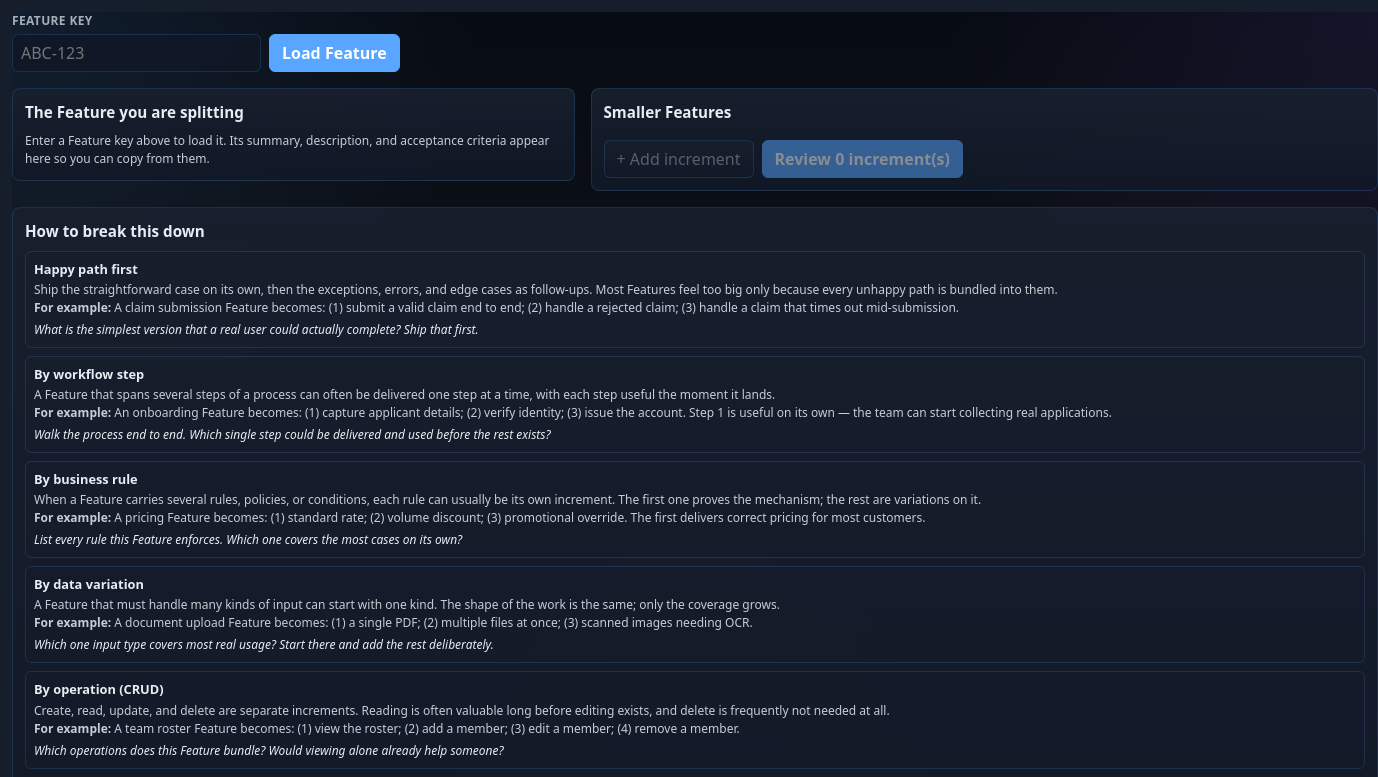
FeatureSplitterTab — the review step (FR-013) › lets the PO go back and keep editing
The image size is (1378, 777).
Type "ABC-1" into the field labelled "Feature key".
click(136, 53); type("ABC-1")  # box [12, 34, 261, 72]
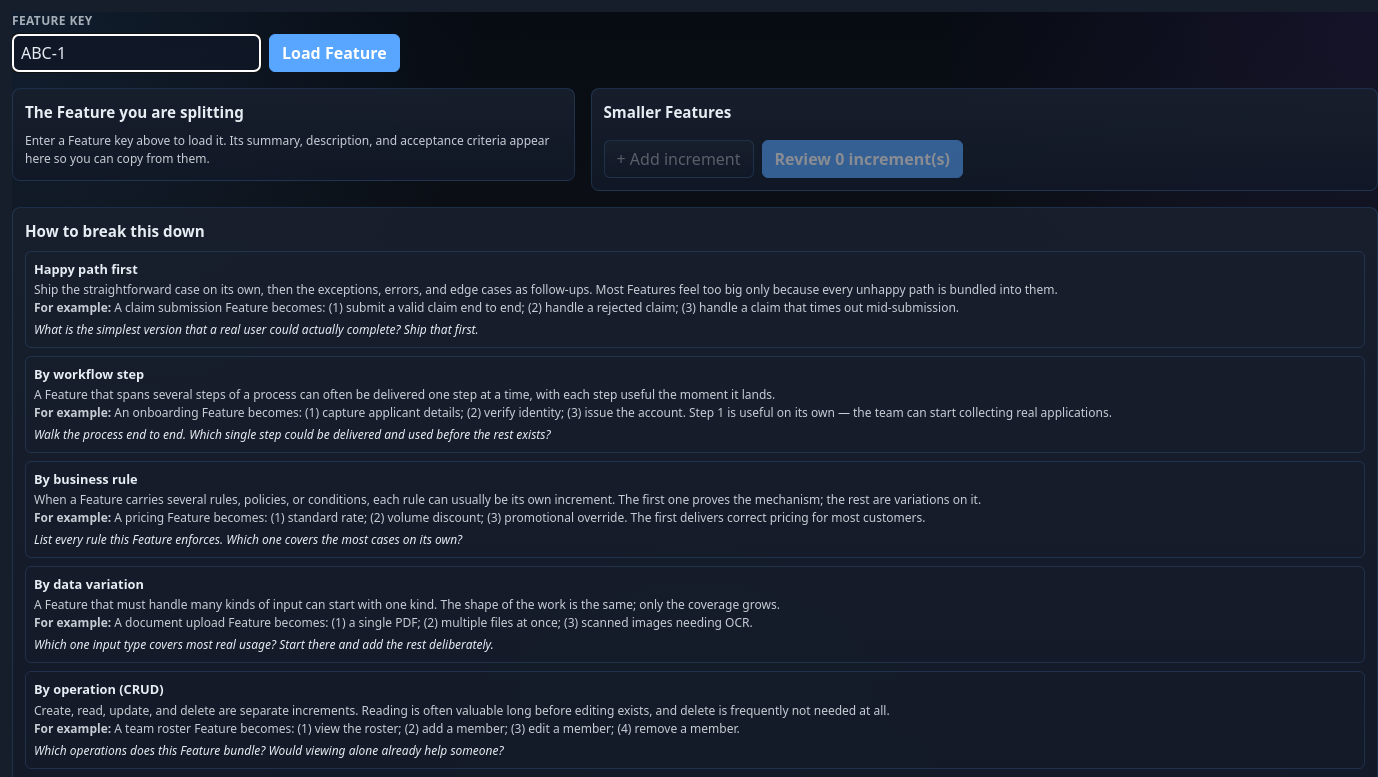
Click the button "Load Feature".
click(334, 53)  # box [269, 34, 400, 72]
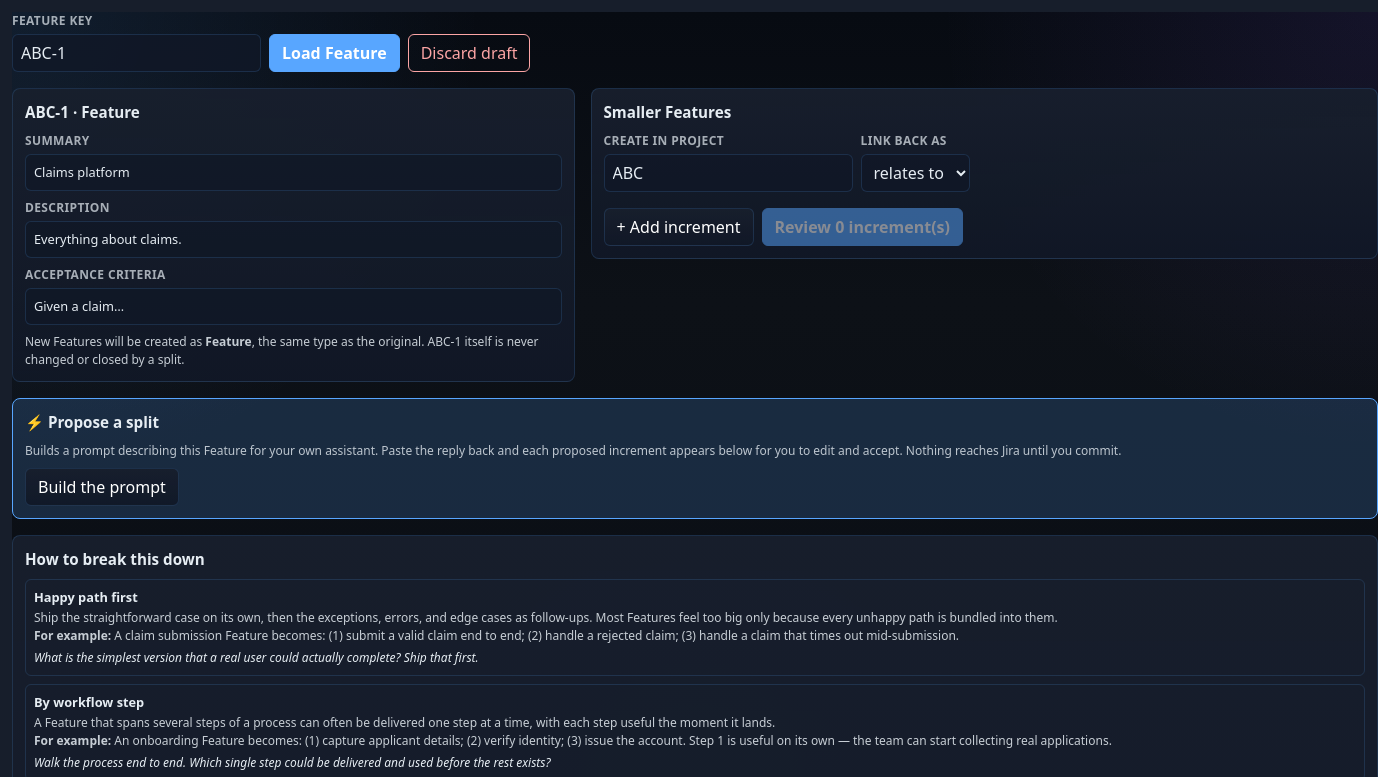
Check: the heading "ABC-1 · Feature" is shown, box [25, 102, 140, 122]
Click the button "+ Add increment".
click(678, 227)  # box [604, 208, 754, 246]
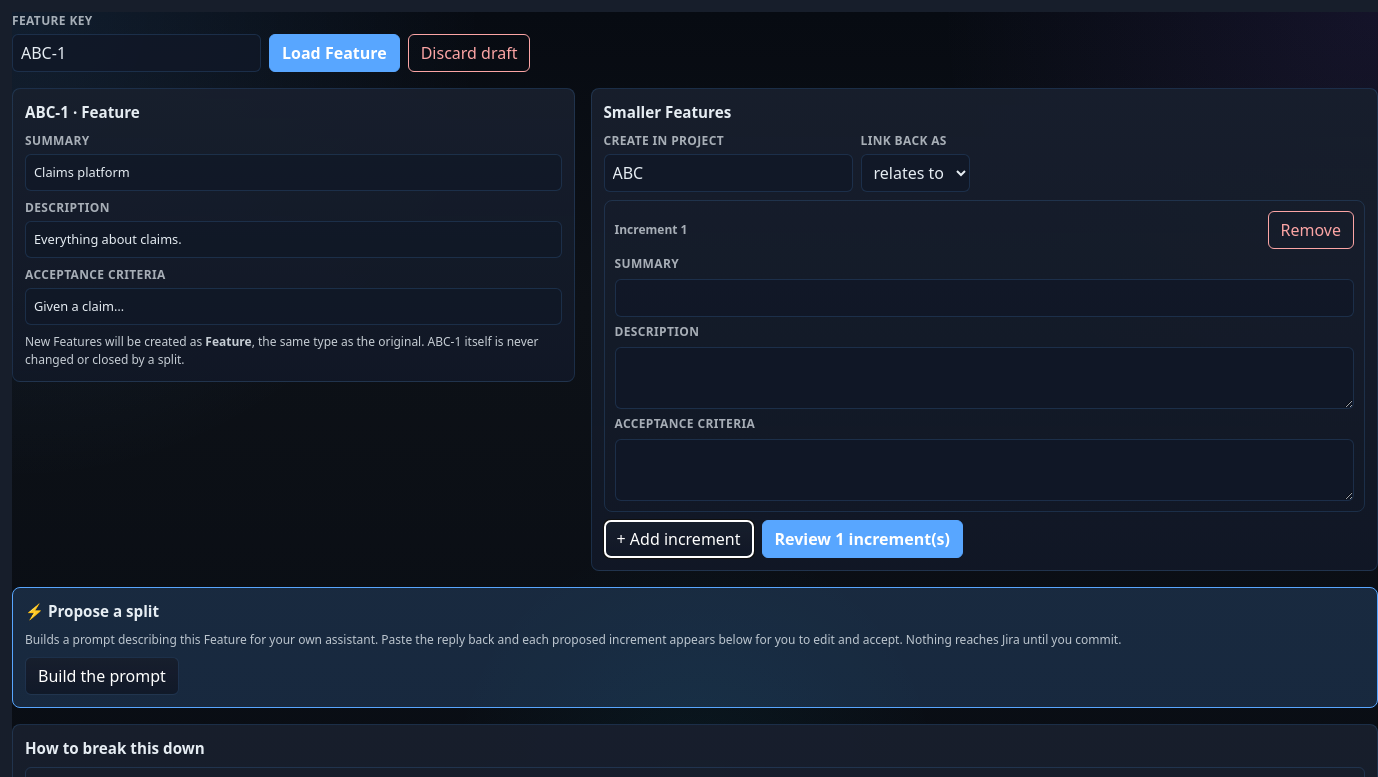
Type "One" into the field labelled "Summary".
click(984, 298); type("One")  # box [614, 279, 1354, 317]
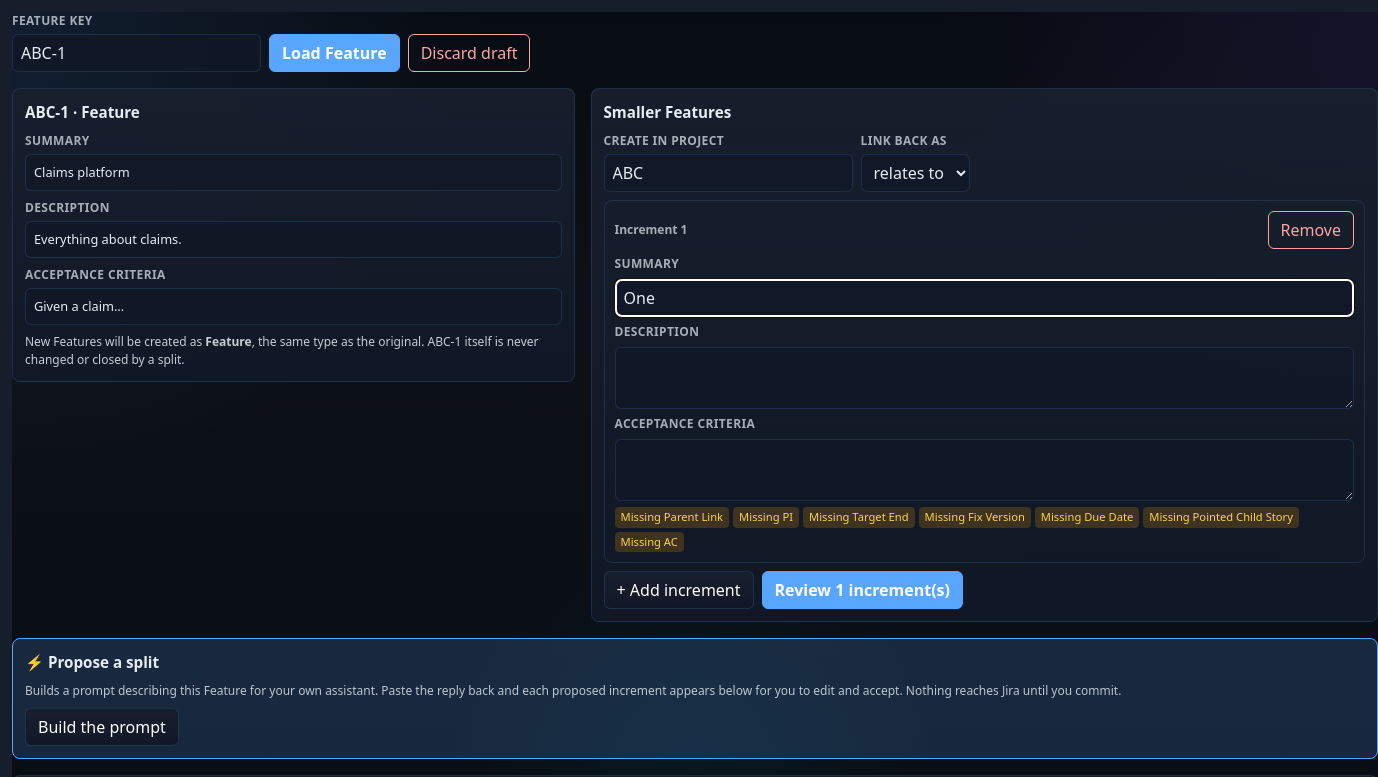
Click the button "Review 1 increment(s)".
click(862, 590)  # box [762, 571, 963, 609]
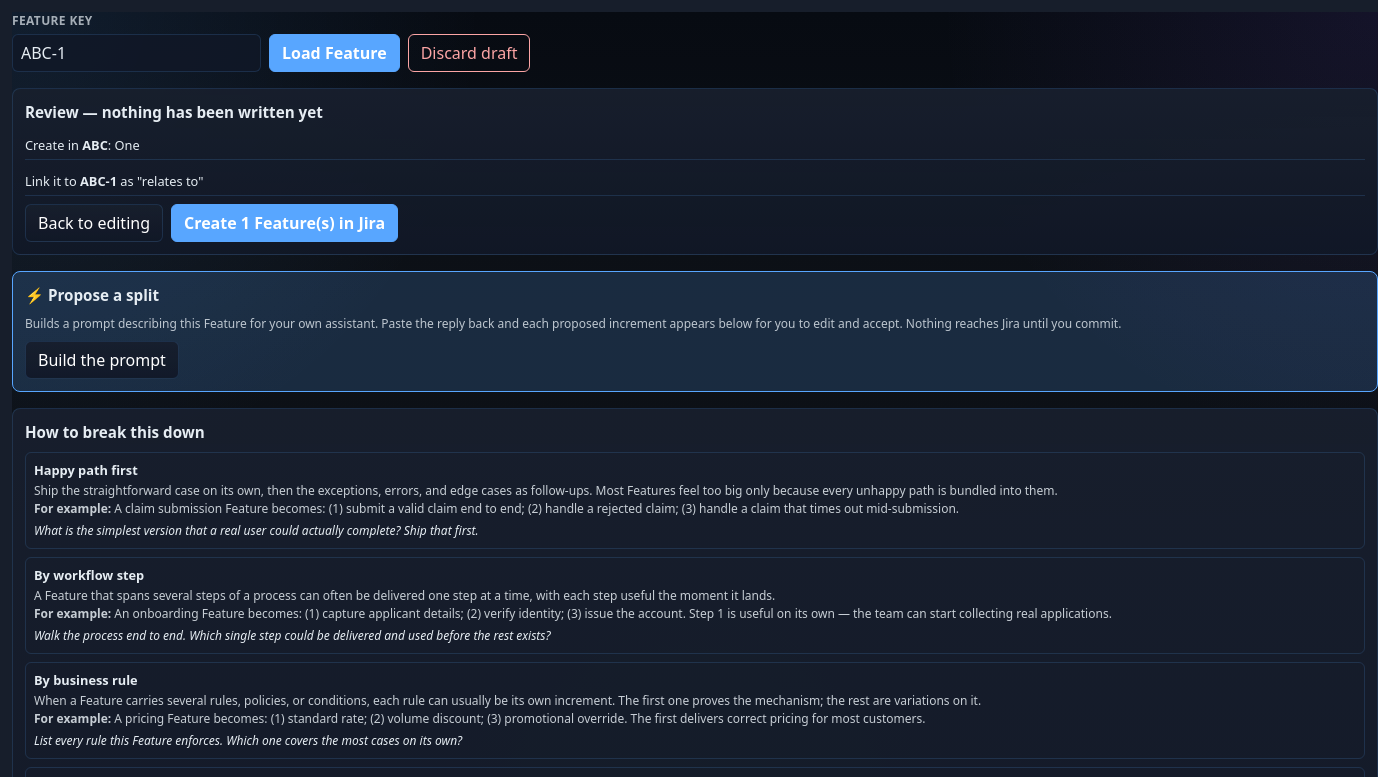
Click the button "Back to editing".
click(94, 223)  # box [25, 204, 163, 242]
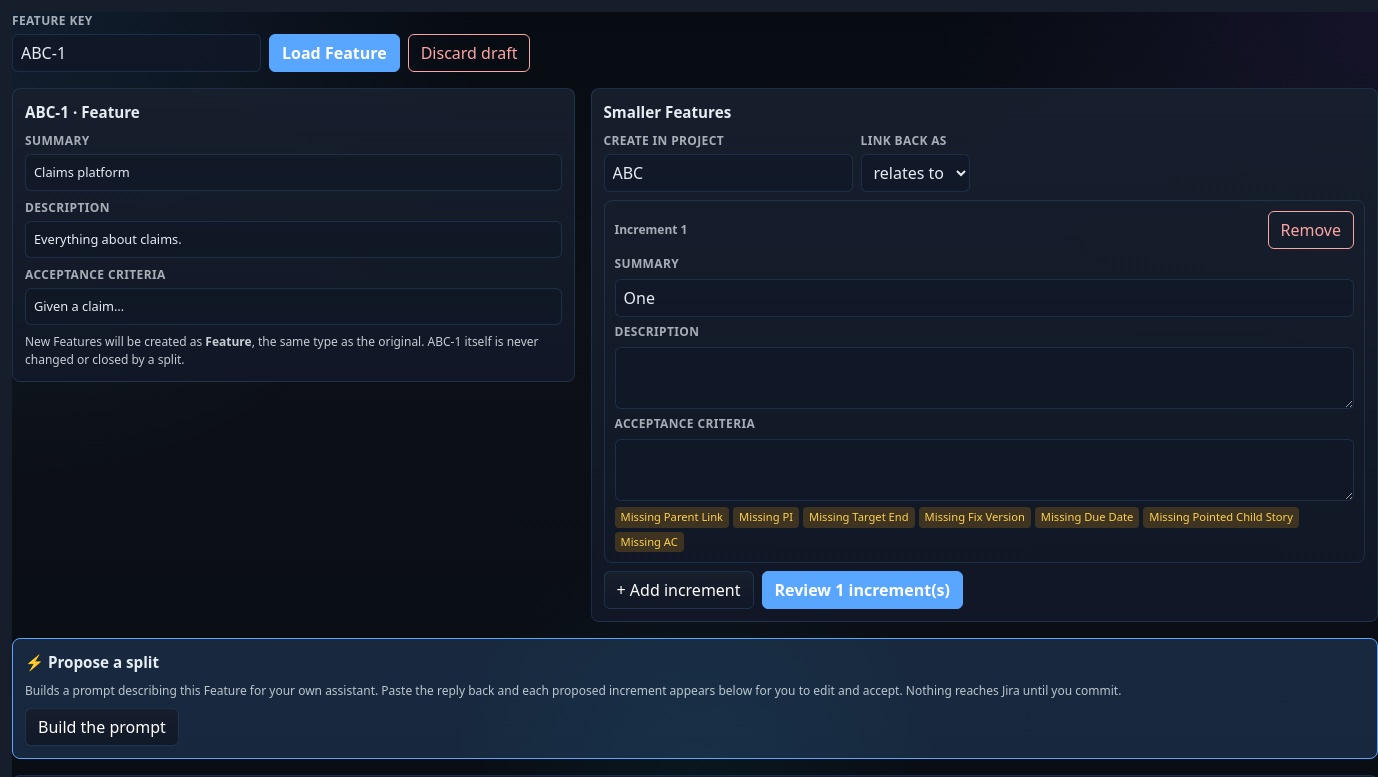
Check: the button "+ Add increment" is shown, box [604, 571, 754, 609]
